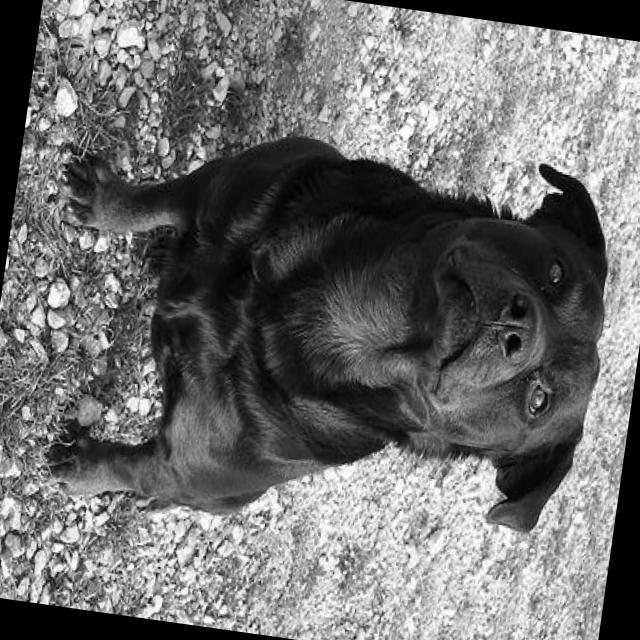sitting: (11, 82, 634, 599)
